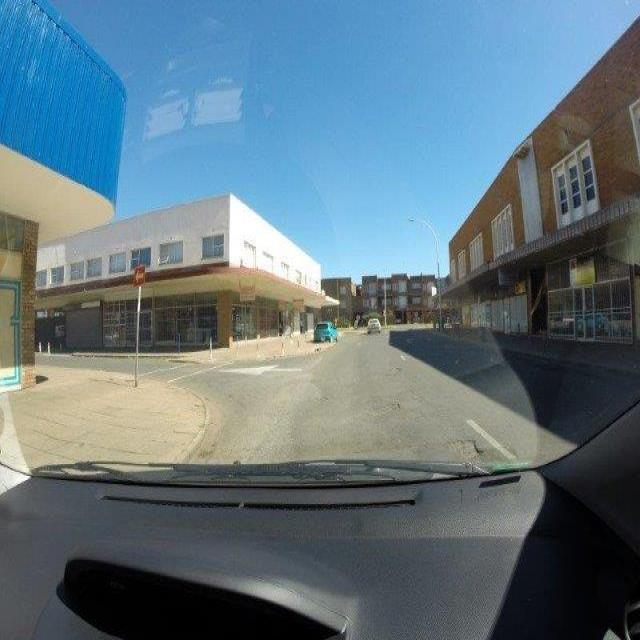lubang: (446, 429, 487, 459), (364, 399, 400, 413), (390, 361, 402, 372)
